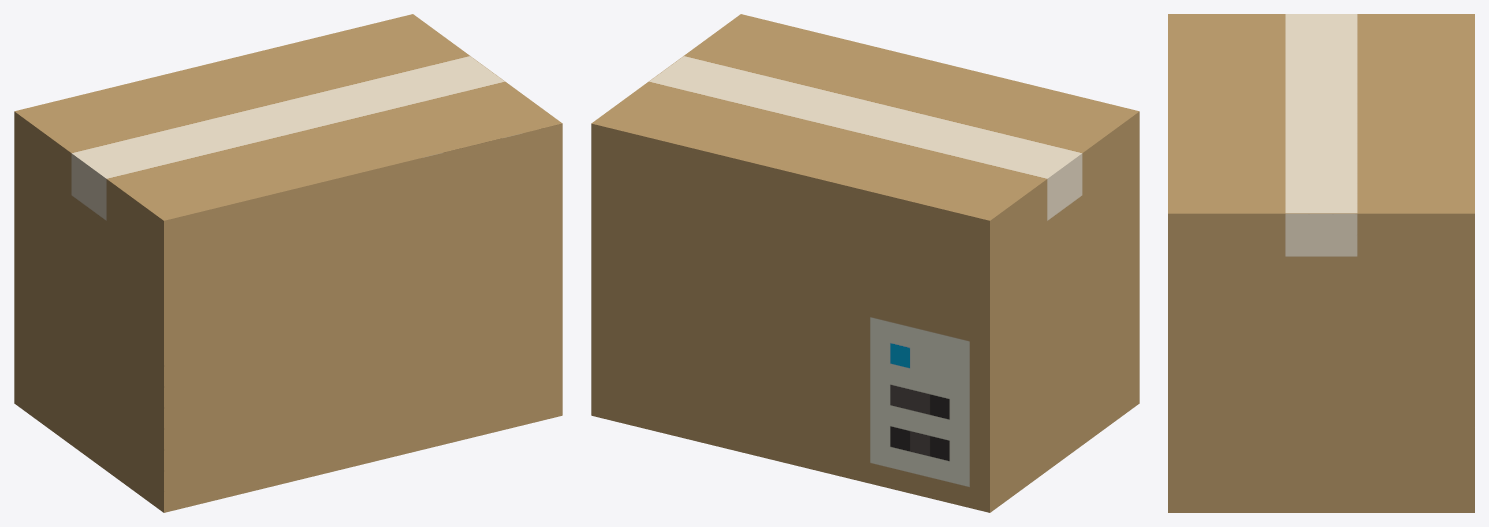
The model's file is IKEA_Cajas.fbx.
The picture shows the model from 3 angles, left to right: view 1: azimuth 30°, elevation 25°; view 2: azimuth 150°, elevation 25°; view 3: azimuth 270°, elevation 25°; orthographic projection. The views are drawn at different scales.
Parts seen in each view (by area): view 1: IKEA_Cajas; view 2: IKEA_Cajas; view 3: IKEA_Cajas.
Part boxes in pixels (box(x1,y1,x2,y2)): IKEA_Cajas: box(14, 14, 562, 512); IKEA_Cajas: box(591, 14, 1139, 512); IKEA_Cajas: box(1168, 14, 1474, 512).
Bounding box in the file's own units: 200 × 140 × 130.
